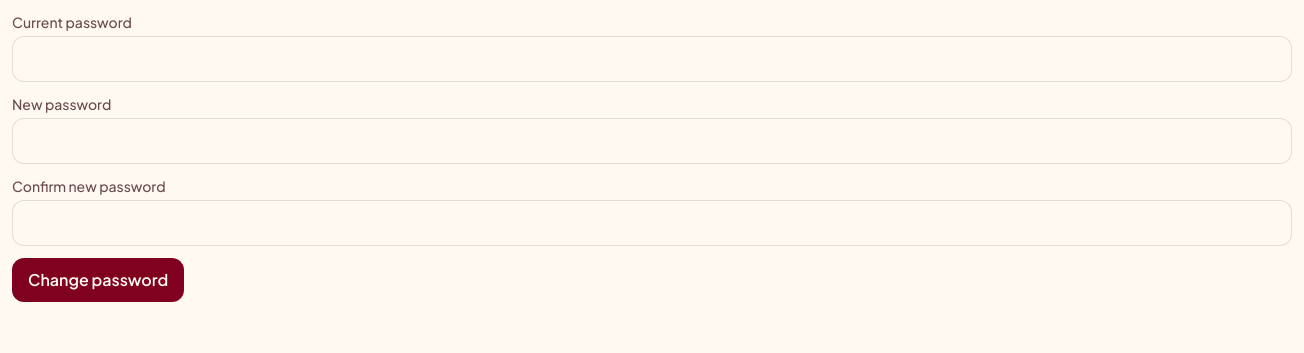
Test case: ChangePasswordForm › requires matching confirmation
Type "oldpass12" into the password field labelled "Current password" at (652, 59), box [12,36,1292,82]
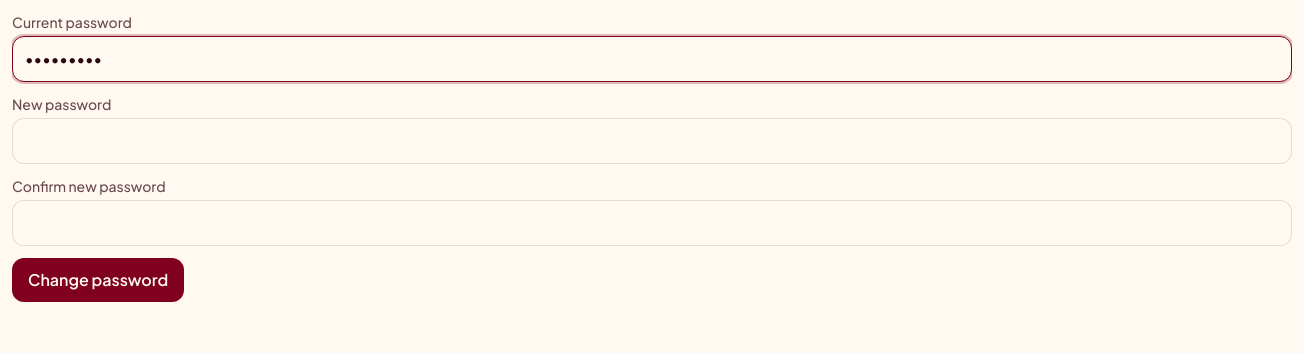
Type "12345678" into the password field labelled "New password" at (652, 141), box [12,118,1292,164]
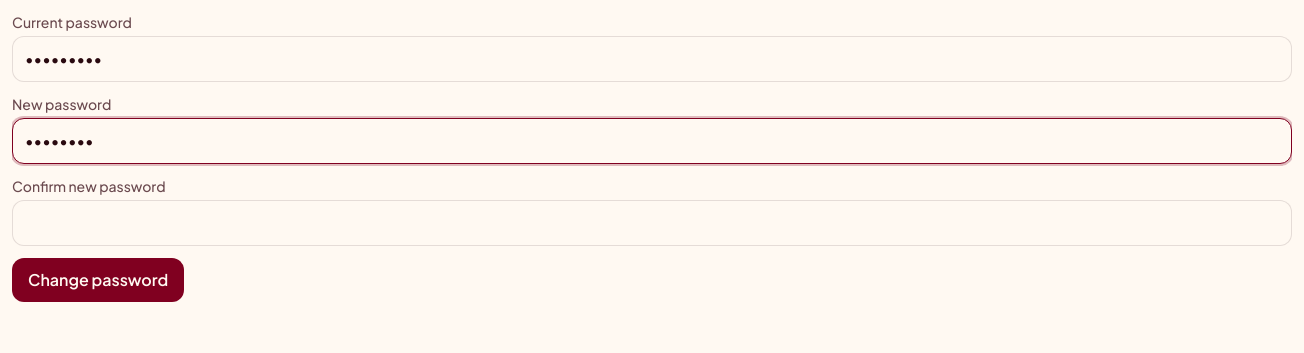
Type "12345679" into the password field labelled "Confirm new password" at (652, 223), box [12,200,1292,246]
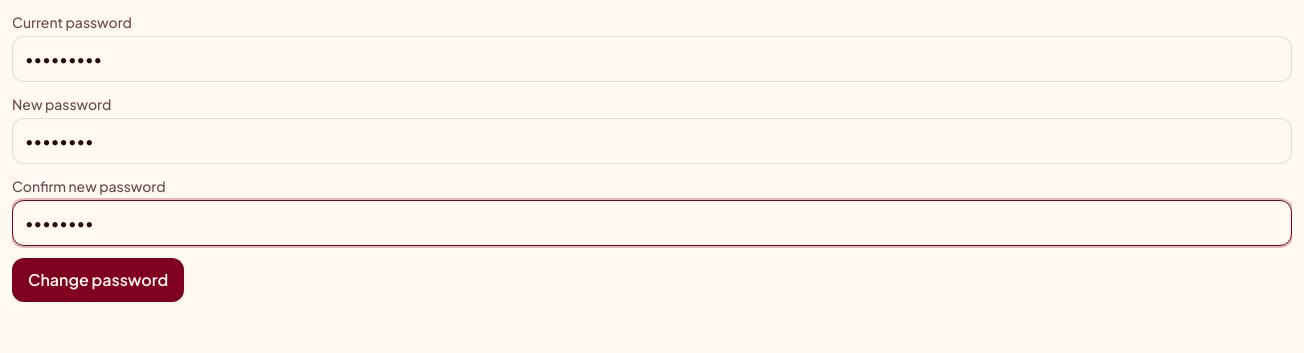
Click the button "Change password" at (98, 280), box [12,258,184,302]
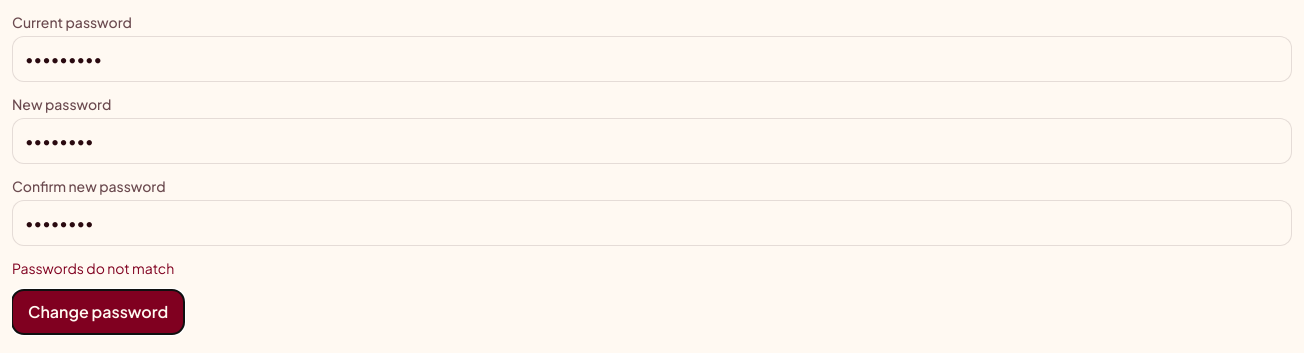
Now the text "Passwords do not match" is shown, box [12,259,174,277]
